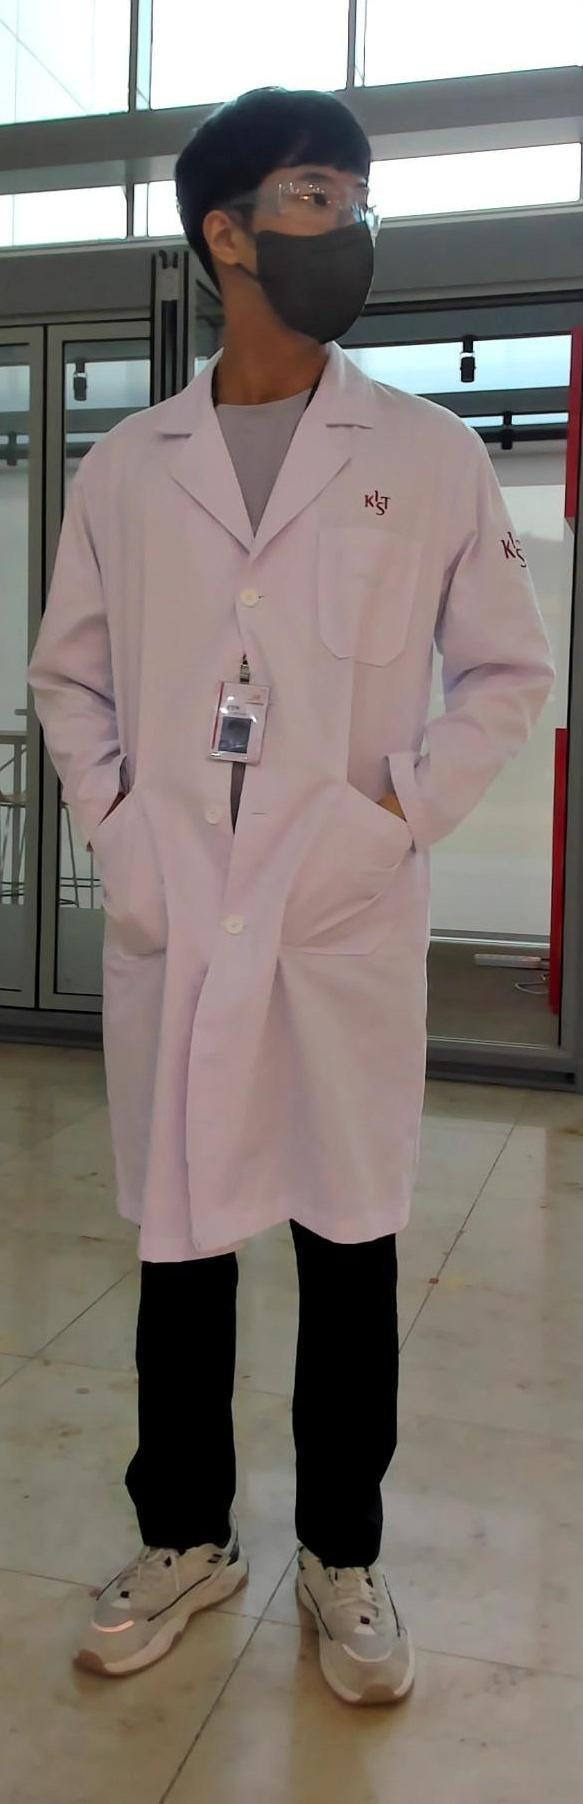lab_coat: (11, 406, 565, 1260)
